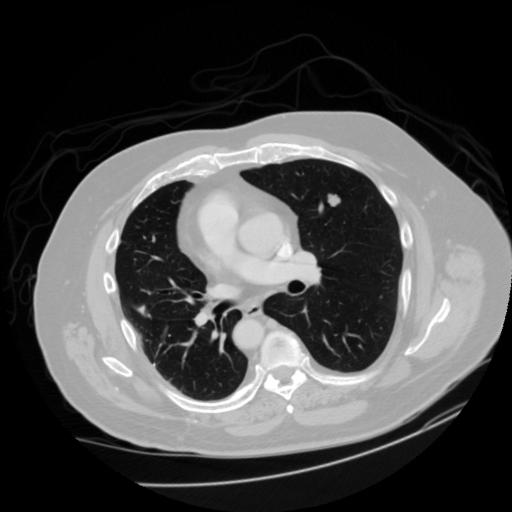nodule: (325, 189, 346, 210)
